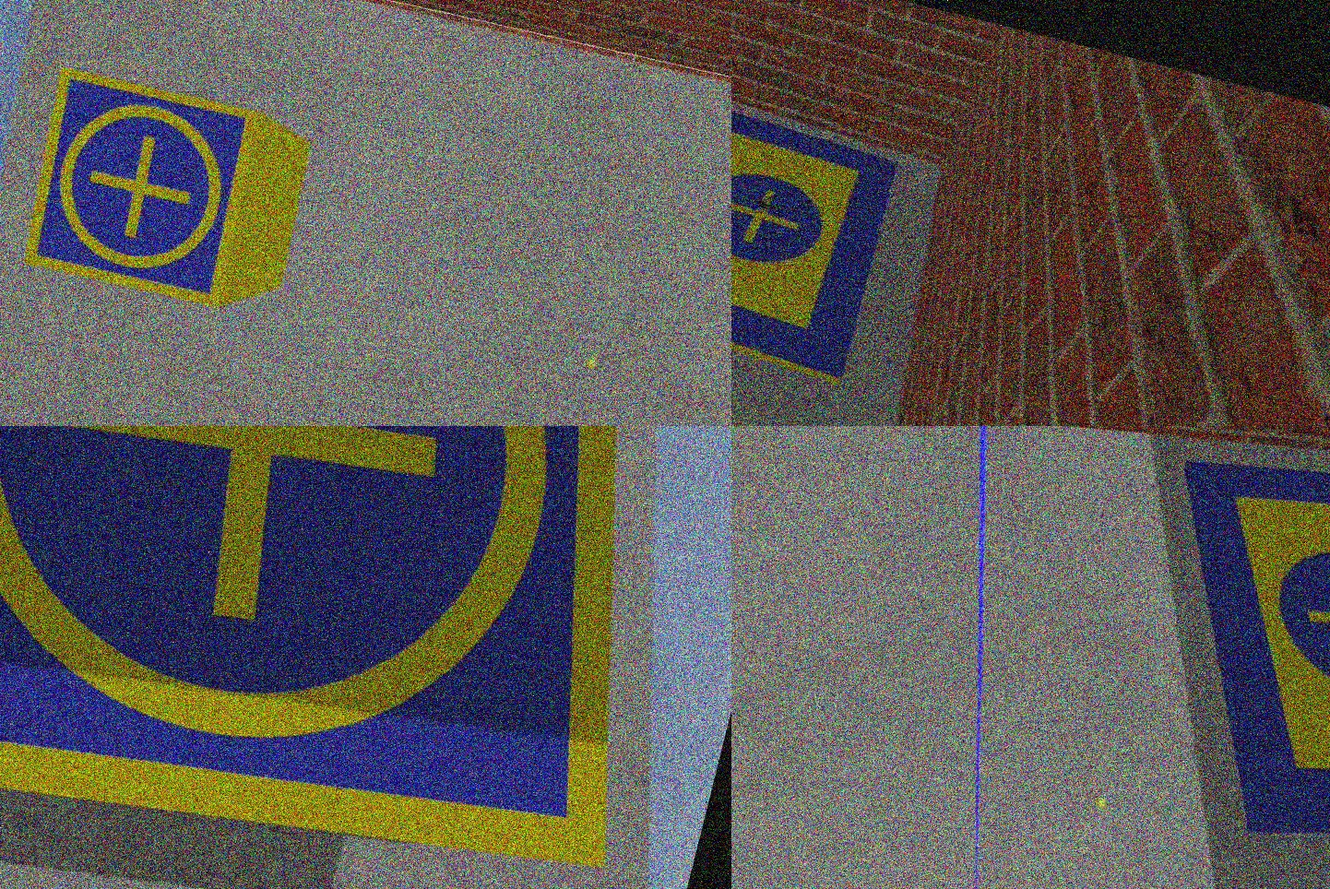large_base: (1099, 426, 1330, 889), (731, 77, 908, 391)
small_base: (1, 426, 731, 889), (7, 59, 272, 315)
